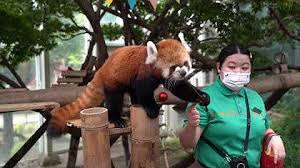redPanda: (40, 31, 203, 134)
